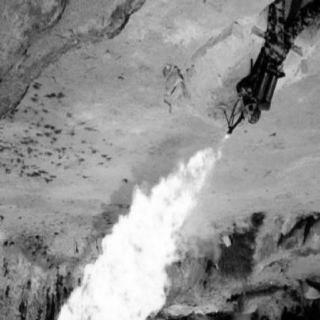Fire: (55, 149, 217, 320)
